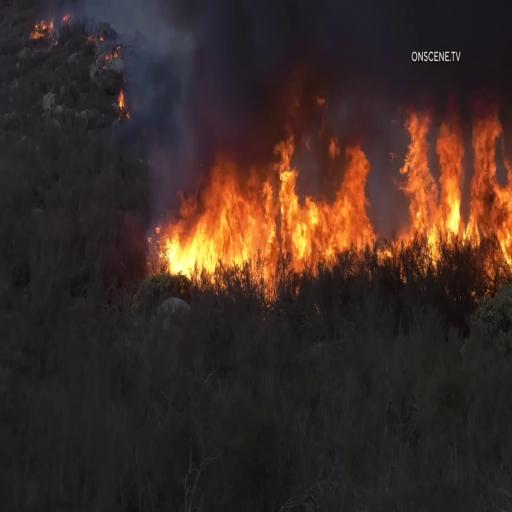fire: (171, 107, 509, 284)
smoke: (131, 5, 411, 101)
